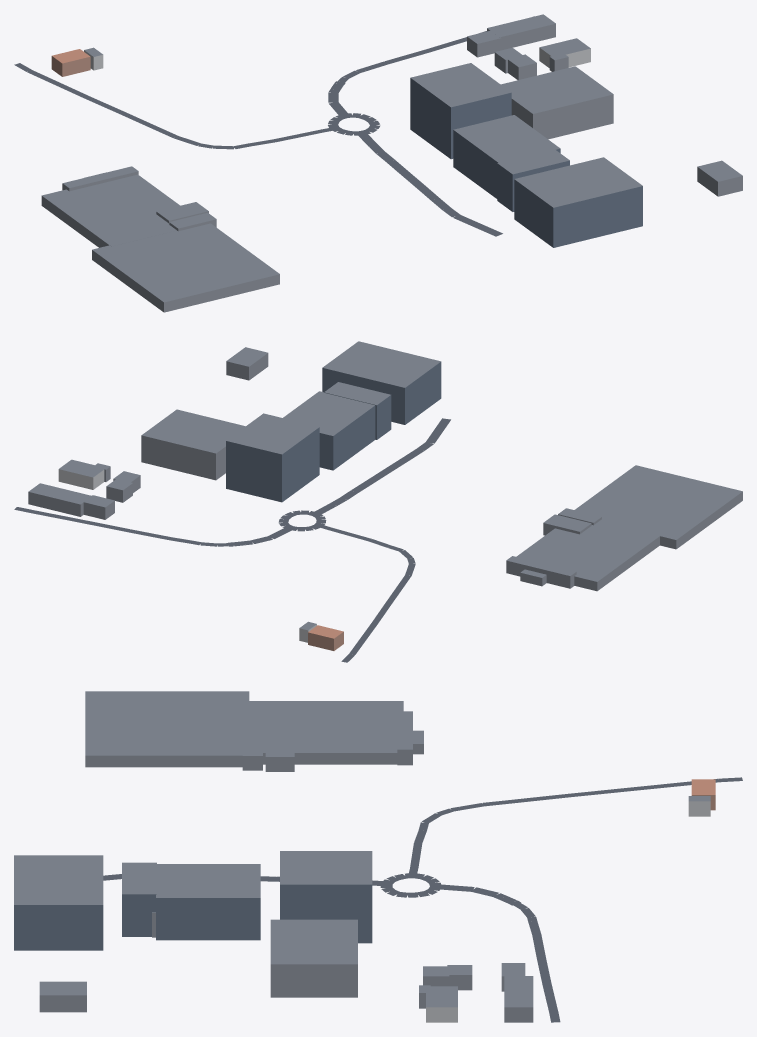
The model's file is tile_2_6_lod1.glb.
3 renders of one model, top to bottom at view 1: azimuth 30°, elevation 25°; view 2: azimuth 150°, elevation 25°; view 3: azimuth 270°, elevation 25°, orthographic. The views are drawn at different scales.
Parts seen in each view (by area): view 1: TileRoot; view 2: TileRoot; view 3: TileRoot.
Part boxes in pixels (x1,y1,x2,y2): TileRoot: (14,14,742,312); TileRoot: (14,341,742,662); TileRoot: (14,691,742,1022).
Size of the model in its own units: 448 by 38.3 by 429.
